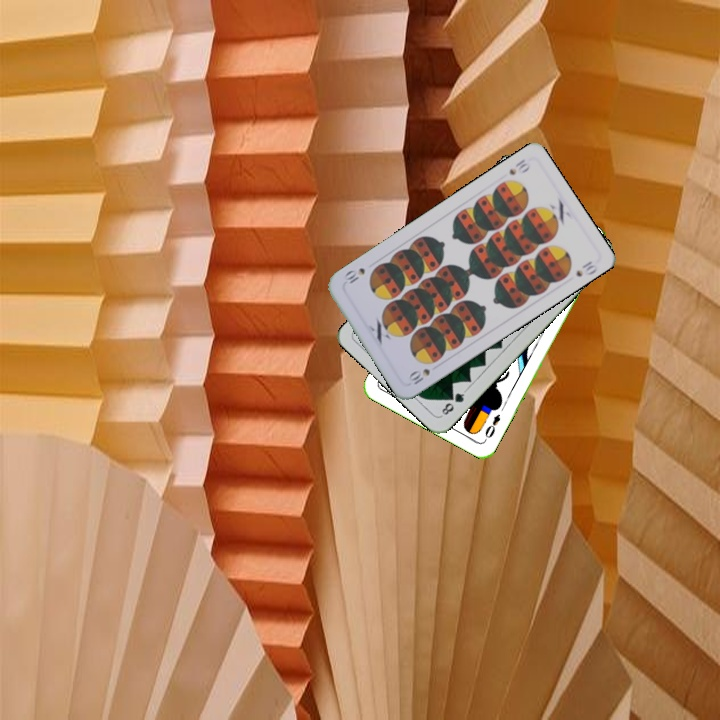EO: (481, 410, 503, 444)
G8: (437, 386, 469, 419)
S10: (404, 364, 433, 387), (505, 155, 533, 178)
